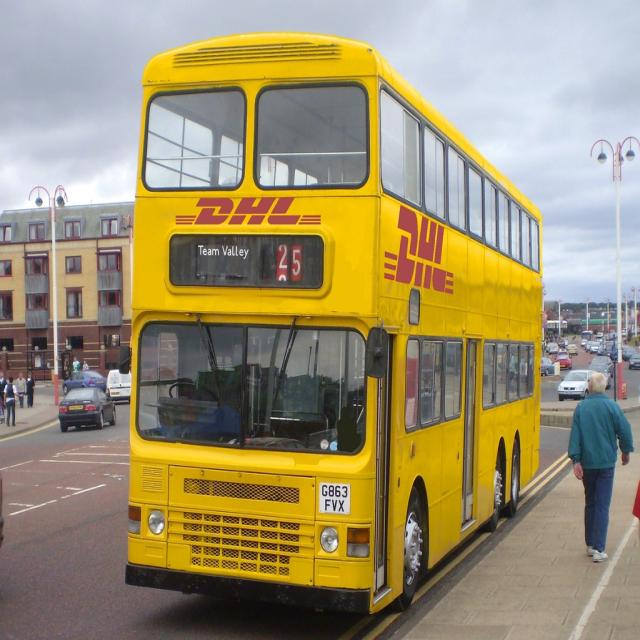dhl: (164, 185, 337, 240), (378, 200, 468, 299)
